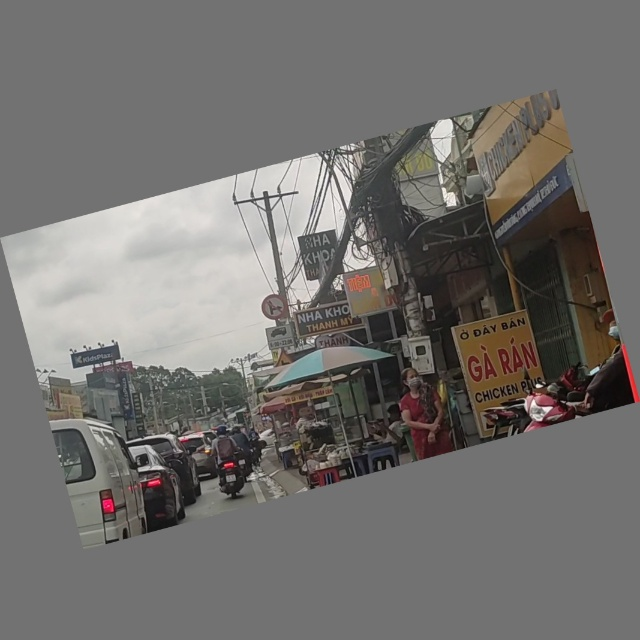P.139: (259, 290, 290, 322)
S.505a*Xe tai: (265, 324, 297, 352)
W.205b: (269, 351, 300, 372)
